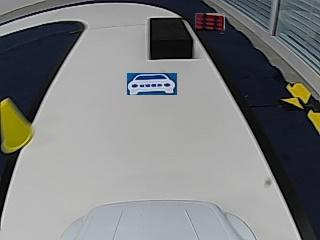block: (150, 18, 195, 60)
cone: (0, 100, 37, 152)
